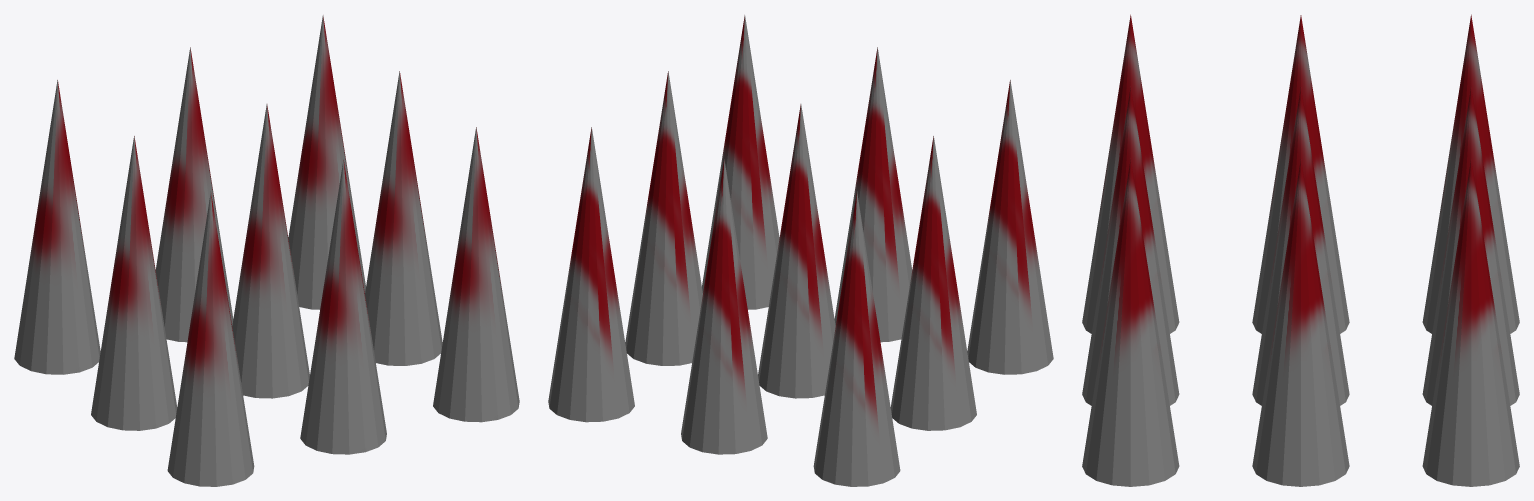
File: Spikes.fbx
3 views of the same model, side by side, from view 1: azimuth 30°, elevation 25°; view 2: azimuth 150°, elevation 25°; view 3: azimuth 270°, elevation 25° (orthographic). The views are drawn at different scales.
Visible parts, largest first — view 1: Cone.002, Cone.005, Cone.008, Cone.007, Cone.006, Cone, Cone.003, Cone.004, Cone.001; view 2: Cone.001, Cone.004, Cone.007, Cone.008, Cone.006, Cone, Cone.003, Cone.005, Cone.002; view 3: Cone.003, Cone.004, Cone.005, Cone, Cone.006, Cone.001, Cone.002, Cone.007, Cone.008.
Part boxes in pixels (box(x1,y1,x2,y2)): Cone.002: box(300, 159, 386, 454); Cone.005: box(433, 127, 519, 422); Cone.008: box(167, 191, 254, 486); Cone.007: box(14, 80, 100, 374); Cone.006: box(91, 136, 177, 430); Cone: box(232, 104, 309, 398); Cone.003: box(365, 71, 442, 365); Cone.004: box(288, 15, 365, 309); Cone.001: box(155, 47, 233, 342); Cone.001: box(681, 159, 767, 454); Cone.004: box(548, 127, 634, 422); Cone.007: box(813, 191, 900, 486); Cone.008: box(967, 80, 1053, 374); Cone.006: box(890, 136, 976, 430); Cone: box(758, 104, 835, 398); Cone.003: box(625, 71, 702, 365); Cone.005: box(702, 15, 779, 309); Cone.002: box(834, 47, 912, 342); Cone.003: box(1252, 159, 1349, 486); Cone.004: box(1422, 158, 1519, 486); Cone.005: box(1082, 158, 1179, 486); Cone: box(1252, 87, 1349, 405); Cone.006: box(1252, 15, 1349, 333); Cone.001: box(1422, 86, 1519, 405); Cone.002: box(1082, 86, 1179, 405); Cone.007: box(1422, 14, 1519, 333); Cone.008: box(1082, 14, 1179, 333).
Size of the model in its own units: 257 by 200 by 257.
